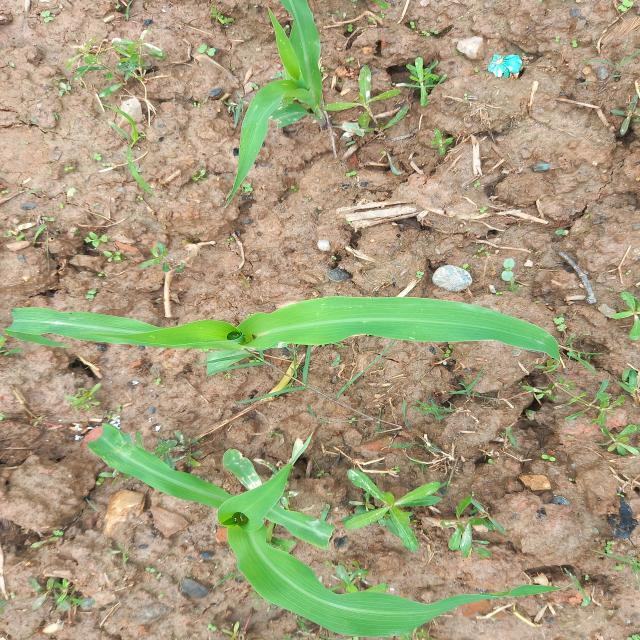maize: (34, 290, 580, 384), (106, 426, 332, 622), (239, 24, 348, 176)
weed: (354, 467, 493, 549), (382, 58, 473, 158), (81, 35, 160, 147), (606, 286, 640, 459), (36, 564, 88, 618)
